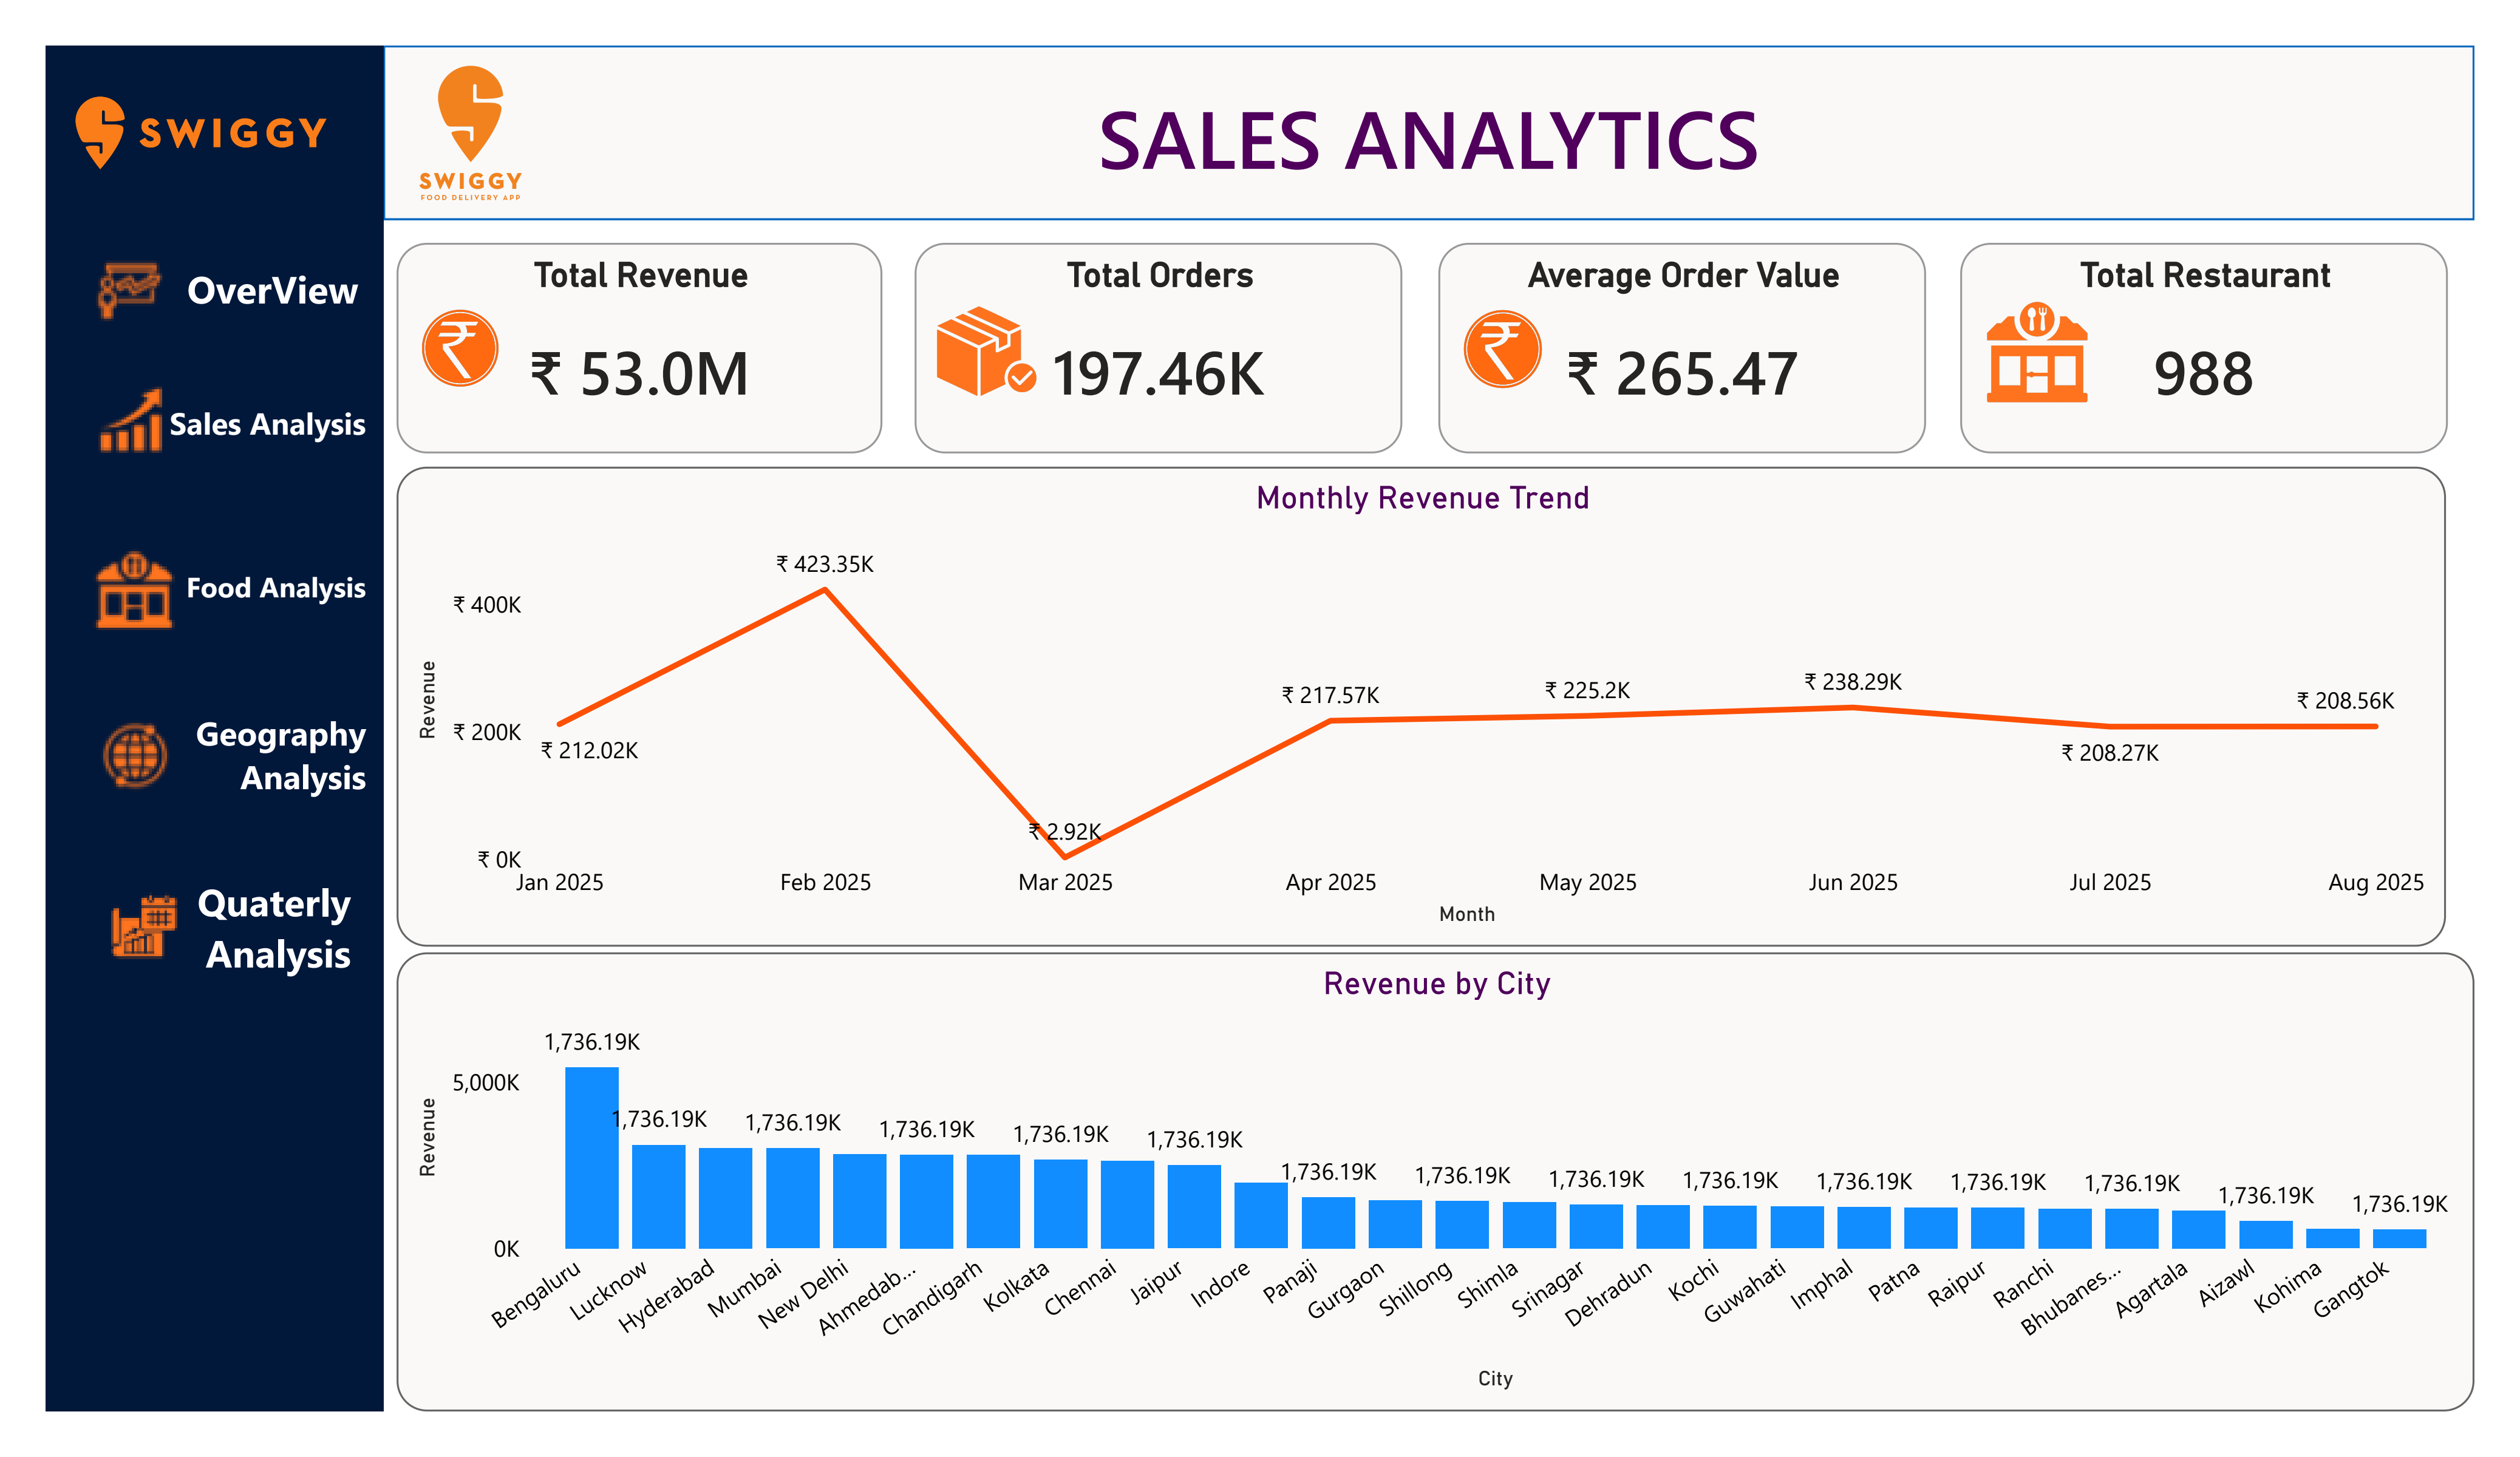

What the dashboard file says about the page in this screenshot:
{"tool":"powerbi","page":{"name":"Sales Analysis","canvas":[1280,720],"ordinal":1},"visuals":[{"type":"shape","box":[178.1,0,1101.9,91.9],"z":0},{"type":"image","box":[126.2,0,196.2,91.9],"z":1000},{"type":"shape","box":[0,0,178.4,720.4],"z":2000},{"type":"image","box":[16.5,0,131.7,91.9],"z":3000},{"type":"group","id":"g1","title":"Group 1","box":[185.2,104.3,256,111.1],"z":4000},{"type":"group","id":"g2","title":"Group 2","box":[458.3,104.3,256.6,111.1],"z":5000},{"type":"group","id":"g3","title":"Group 3","box":[733.7,103.9,257,111.5],"z":6000},{"type":"cardVisual","title":"Total Revenue","fields":{"Data":["Sum(swiggy_data.Price (INR))"]},"box":[185.2,104.3,256,111.1],"z":6000,"group":"g1"},{"type":"cardVisual","title":"Total Restaurant","fields":{"Data":["Count(swiggy_data.Restaurant Name)"]},"box":[1008.6,104.3,256.6,111.1],"z":6000,"group":"g4"},{"type":"cardVisual","title":"Total Orders","fields":{"Data":["CountNonNull(swiggy_data.Order Date)"]},"box":[458.3,104.3,256.6,111.1],"z":7000,"group":"g2"},{"type":"group","id":"g4","title":"Group 4","box":[1008.6,104.3,256.6,111.1],"z":7000},{"type":"cardVisual","title":"Average Order Value","fields":{"Data":["Sum(AVG Order.Average_Order_Value)"]},"box":[734.1,104.2,256.6,111.1],"z":8000,"group":"g3"},{"type":"lineChart","title":"Monthly Revenue Trend","fields":{"Y":["Sum(Monthly Revenue Analysis.Revenue)"],"Category":["Monthly Revenue Analysis.Month.Variation.Date Hierarchy.Year","Monthly Revenue Analysis.Month.Variation.Date Hierarchy.Quarter","Monthly Revenue Analysis.Month.Variation.Date Hierarchy.Month","Monthly Revenue Analysis.Month.Variation.Date Hierarchy.Day"]},"box":[185.2,222.3,1079.9,252.5],"z":8000},{"type":"textbox","box":[178.4,13.7,1101.9,91.9],"z":9000},{"type":"image","box":[1008.6,105.7,81,111.1],"z":10000},{"type":"image","box":[185.2,104.3,67.2,111.1],"z":11000},{"type":"image","box":[456.9,105.7,78.2,109.8],"z":12000},{"type":"columnChart","title":"Revenue by City","fields":{"Category":["swiggy_data.City"],"Y":["Sum(swiggy_data.Price (INR))"]},"box":[185.2,477.5,1095,242.9],"z":13000},{"type":"actionButton","box":[0,85.1,168.8,89.2],"z":13001},{"type":"actionButton","box":[4.1,152.3,168.8,89.2],"z":13002},{"type":"actionButton","box":[4.1,241.5,168.8,89.2],"z":13003},{"type":"actionButton","box":[3.7,419.4,168.8,89.3],"z":13004},{"type":"actionButton","box":[7.3,330.2,168.8,89.3],"z":13005},{"type":"image","box":[733.7,103.9,68.5,111.3],"z":20003,"group":"g3"}]}

Visuals, with their boxes on the page's 1280x720 design canvas (x1, y1, x2, y2). These are canvas units, not pixel positions in the 2520x1457 screenshot, which may show the page scaled, cropped or inside an application window:
shape: <bbox>178, 0, 1280, 92</bbox>
image: <bbox>126, 0, 322, 92</bbox>
shape: <bbox>0, 0, 178, 720</bbox>
image: <bbox>16, 0, 148, 92</bbox>
"Group 1" group: <bbox>185, 104, 441, 215</bbox>
"Group 2" group: <bbox>458, 104, 715, 215</bbox>
"Group 3" group: <bbox>734, 104, 991, 215</bbox>
"Total Revenue" cardVisual: <bbox>185, 104, 441, 215</bbox>
"Total Restaurant" cardVisual: <bbox>1009, 104, 1265, 215</bbox>
"Total Orders" cardVisual: <bbox>458, 104, 715, 215</bbox>
"Group 4" group: <bbox>1009, 104, 1265, 215</bbox>
"Average Order Value" cardVisual: <bbox>734, 104, 991, 215</bbox>
"Monthly Revenue Trend" lineChart: <bbox>185, 222, 1265, 475</bbox>
textbox: <bbox>178, 14, 1280, 106</bbox>
image: <bbox>1009, 106, 1090, 217</bbox>
image: <bbox>185, 104, 252, 215</bbox>
image: <bbox>457, 106, 535, 216</bbox>
"Revenue by City" columnChart: <bbox>185, 478, 1280, 720</bbox>
actionButton: <bbox>0, 85, 169, 174</bbox>
actionButton: <bbox>4, 152, 173, 242</bbox>
actionButton: <bbox>4, 242, 173, 331</bbox>
actionButton: <bbox>4, 419, 172, 509</bbox>
actionButton: <bbox>7, 330, 176, 420</bbox>
image: <bbox>734, 104, 802, 215</bbox>
